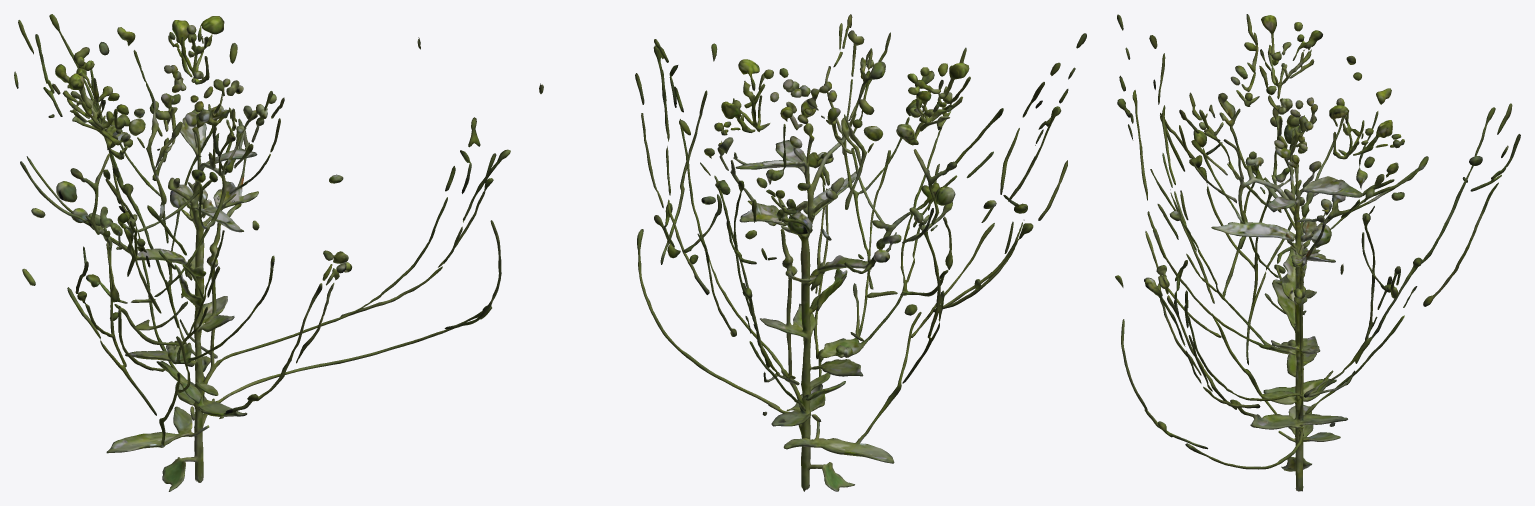
File: herb0037_dup.gltf
The picture shows the model from 3 angles, left to right: view 1: azimuth 30°, elevation 25°; view 2: azimuth 150°, elevation 25°; view 3: azimuth 270°, elevation 25°; orthographic projection. The views are drawn at different scales.
Visible parts, largest first — view 1: Mesh_0.014; view 2: Mesh_0.014; view 3: Mesh_0.014.
Part boxes in pixels (x1,y1,x2,y2): Mesh_0.014: [14, 14, 510, 491]; Mesh_0.014: [539, 14, 1086, 491]; Mesh_0.014: [1115, 14, 1520, 491].
Size of the model in its own units: 2 by 2.01 by 1.77.
Materials: 1 (1 with a texture image).
